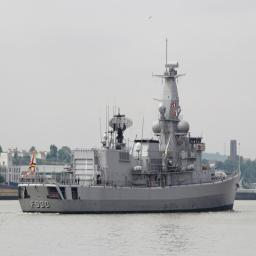Fragata: (18, 59, 245, 219)
